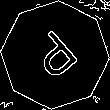P_SE: (25, 23, 85, 87)
